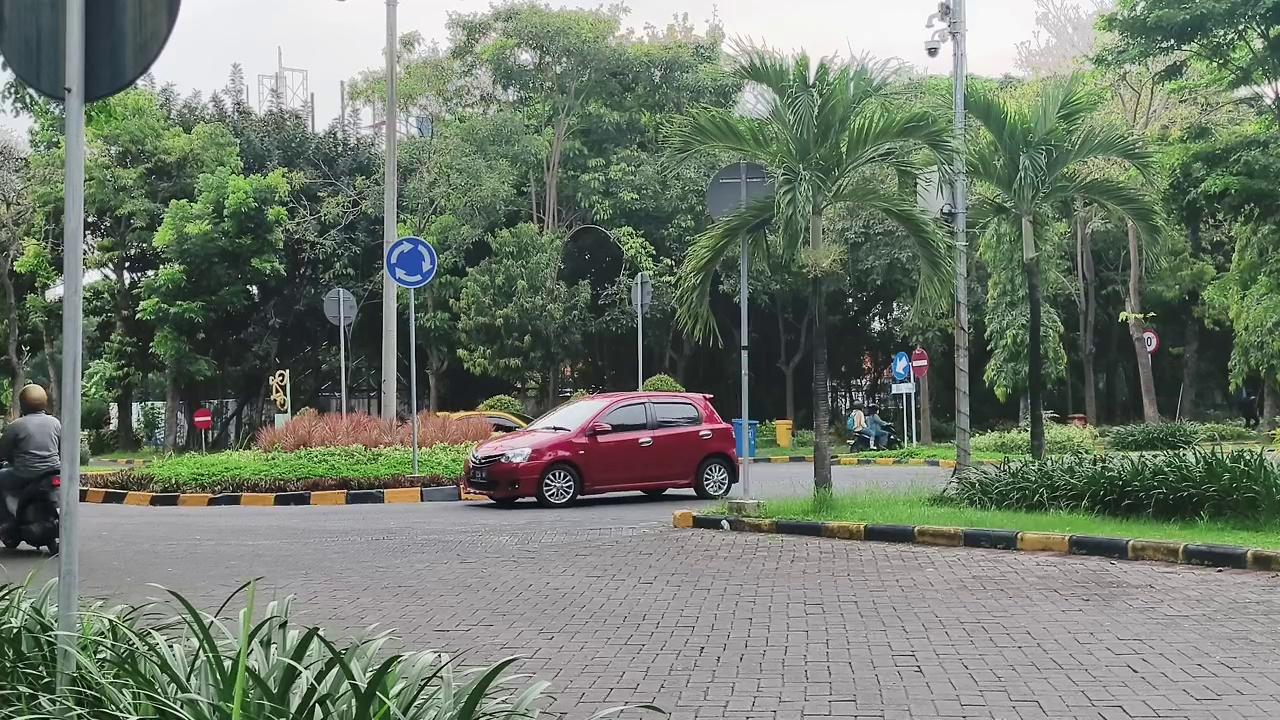Helmet: (0, 384, 60, 515)
Motor: (0, 471, 60, 554), (883, 425, 901, 449)
